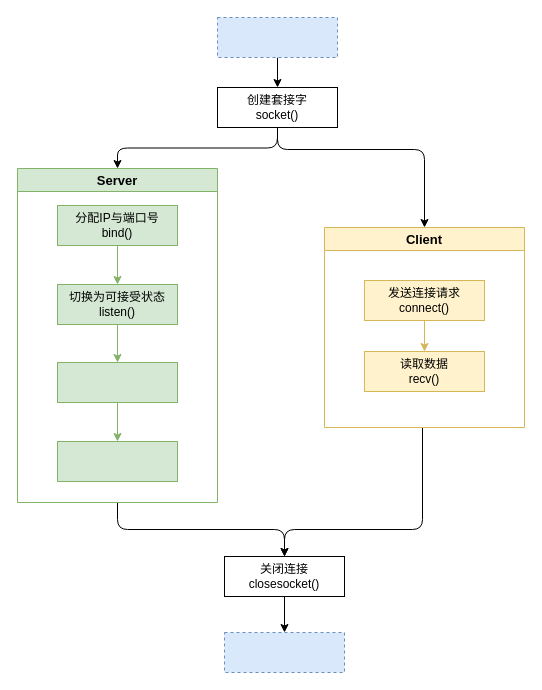
The diagram is 542 pixels wide and 690 high, and some of its shapes have lost their labels. The shapes that lost their labels are listed below. From the top down, each one's centre as x and y in pixels, then its label:
At pixel 277 37: "初始化Winsock WSAStartUp()".
At pixel 117 382: "受理连接请求 accept()".
At pixel 117 461: "传输数据 send()".
At pixel 284 652: "注销Winsock WSAStartUp()".
